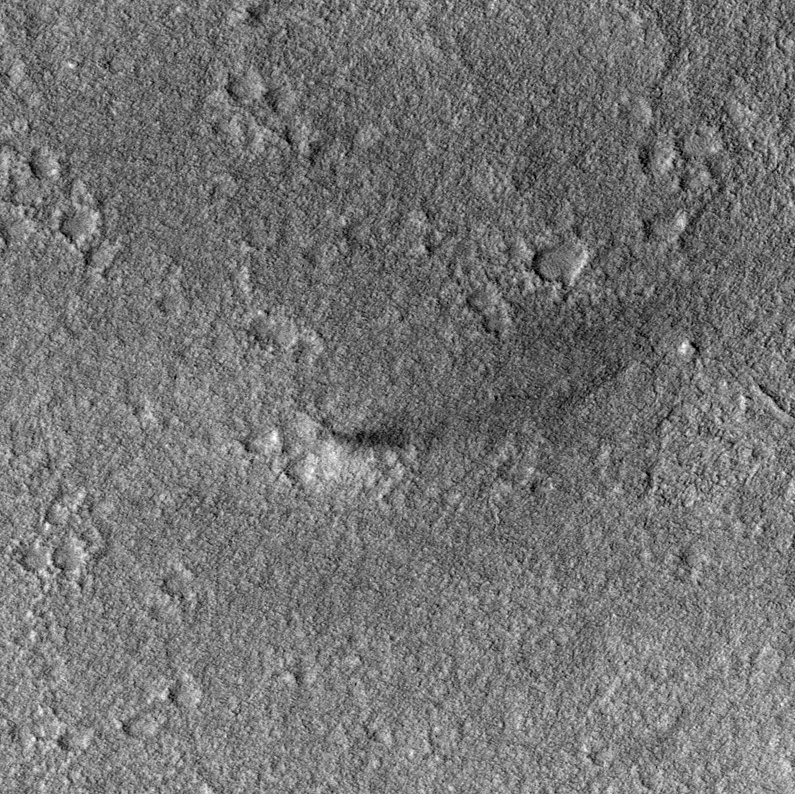dust_devil: (301, 421, 417, 483)
